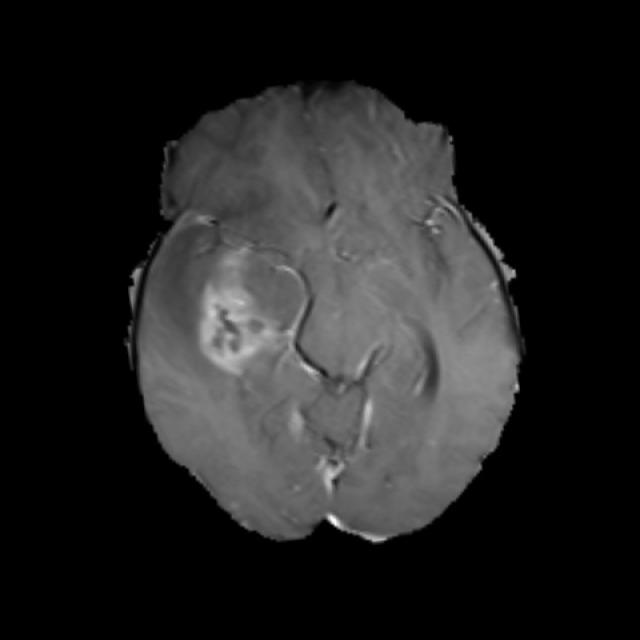negative: (195, 278, 280, 372)
